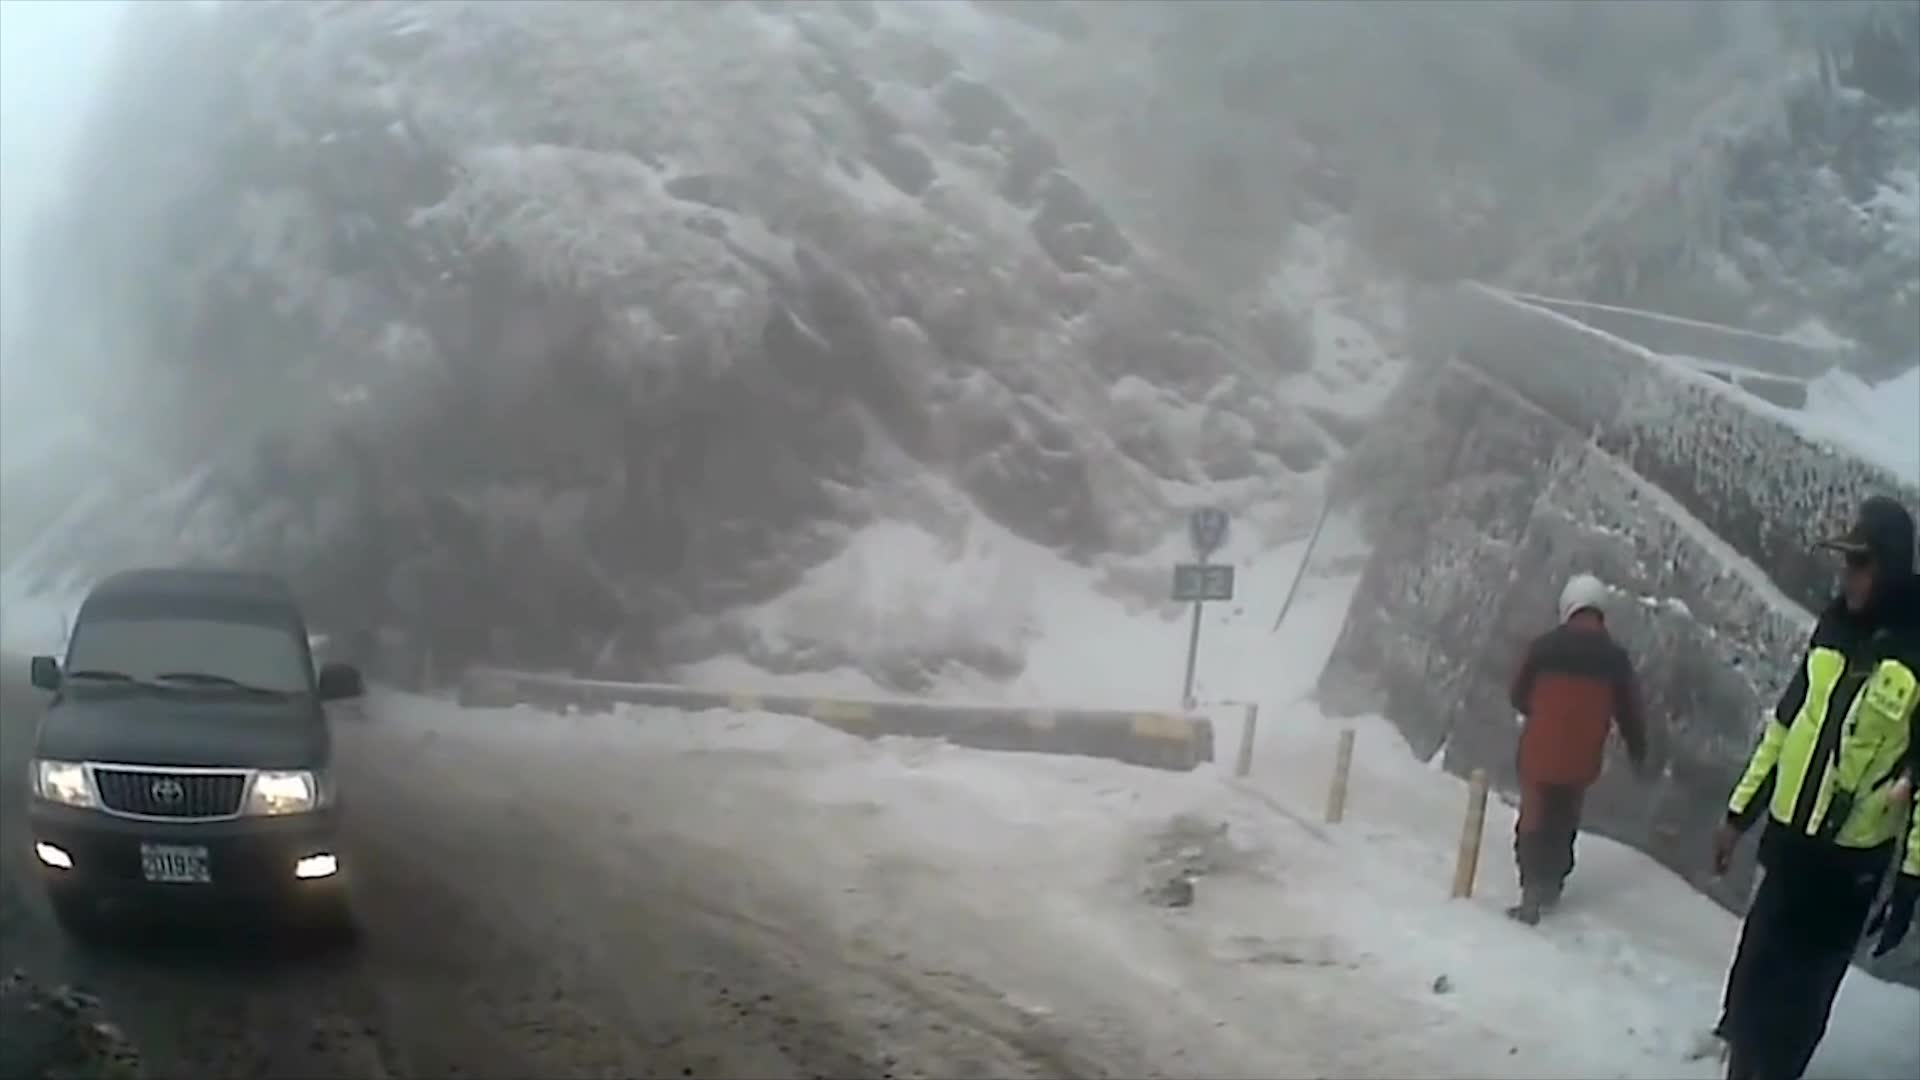pedestrian: (1681, 495, 1920, 1080), (1508, 573, 1653, 925)
vehicle: (25, 569, 363, 942)
